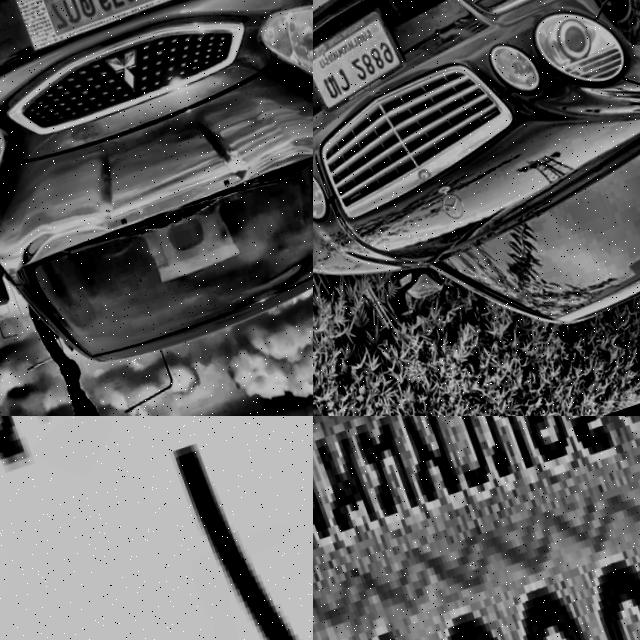license-plate: (313, 416, 640, 640), (0, 416, 313, 640), (313, 2, 410, 119), (27, 0, 153, 40)
